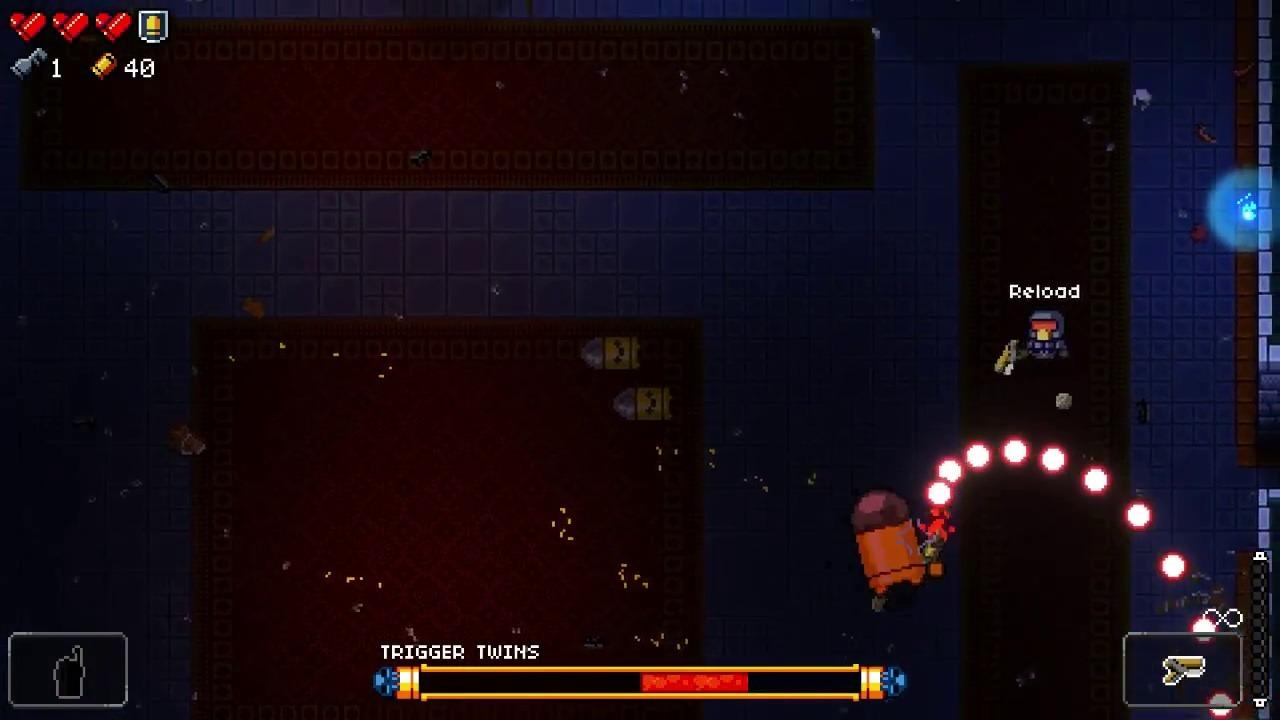boss_smiley: (850, 491, 928, 597)
bullet: (1121, 499, 1155, 531), (962, 440, 993, 471), (1037, 445, 1068, 476), (1081, 464, 1111, 496), (924, 481, 955, 511), (935, 457, 966, 487), (1001, 439, 1033, 467), (1188, 615, 1219, 643), (1206, 692, 1235, 718), (1162, 554, 1187, 581)
dead_bullet_kin: (582, 335, 640, 374), (614, 387, 673, 422)
player: (1029, 311, 1072, 363)
